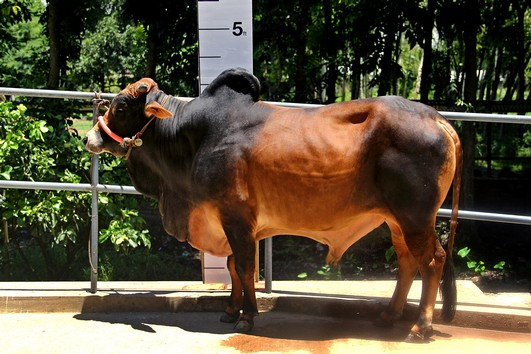cow: (83, 74, 461, 346)
